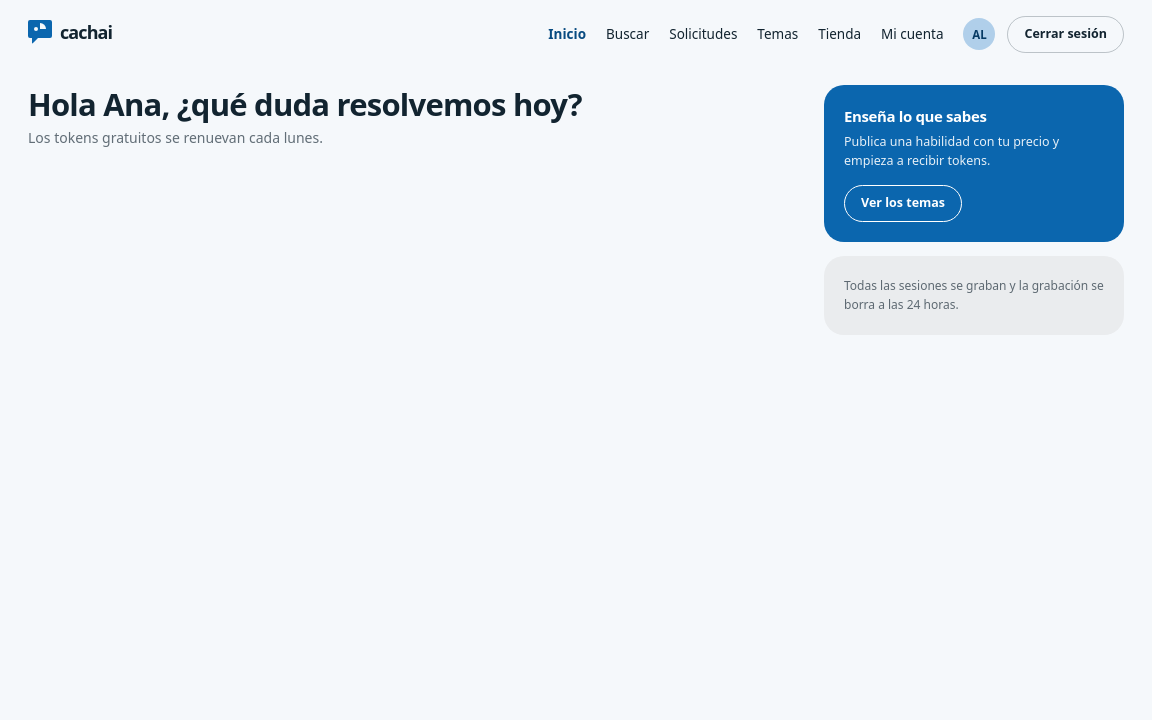
sesion y rutas privadas › cerrar sesion borra el token y muestra de nuevo Ingresar
What coordinates should you click on to do the following:
click the button "Cerrar sesión"
I would click on:
 (1066, 34)
Its box is 1008,16 -> 1124,53.
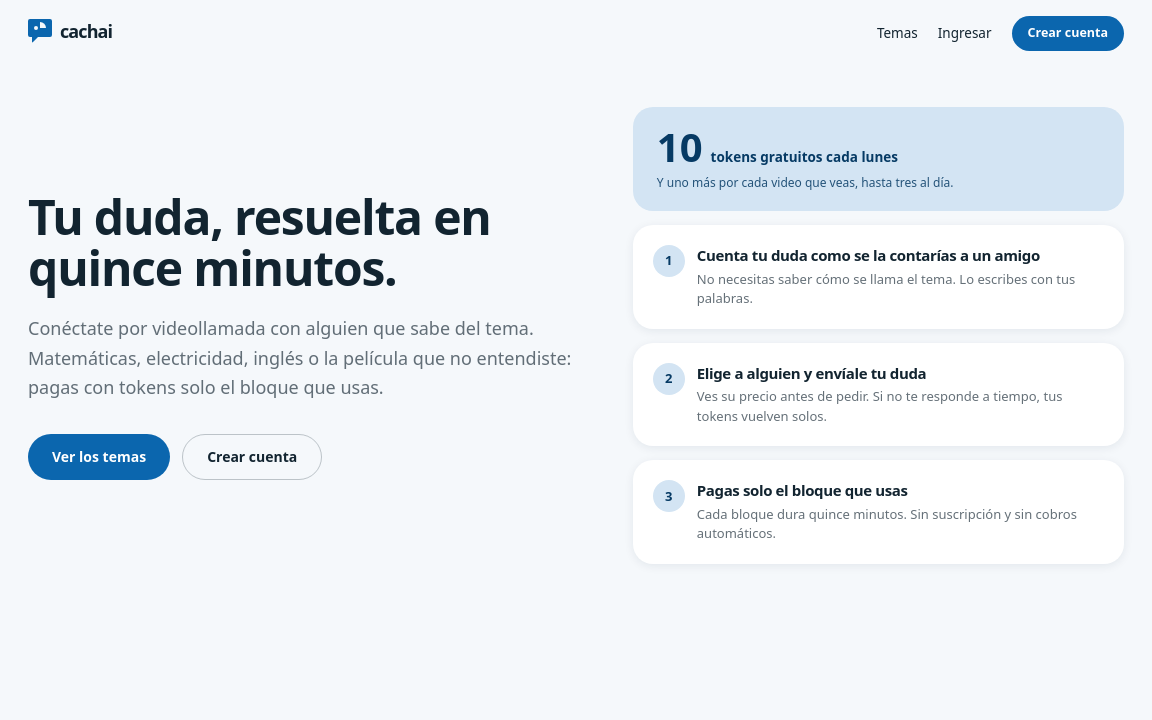
Expected: the link "Ingresar" is shown, 938,23 -> 992,44
